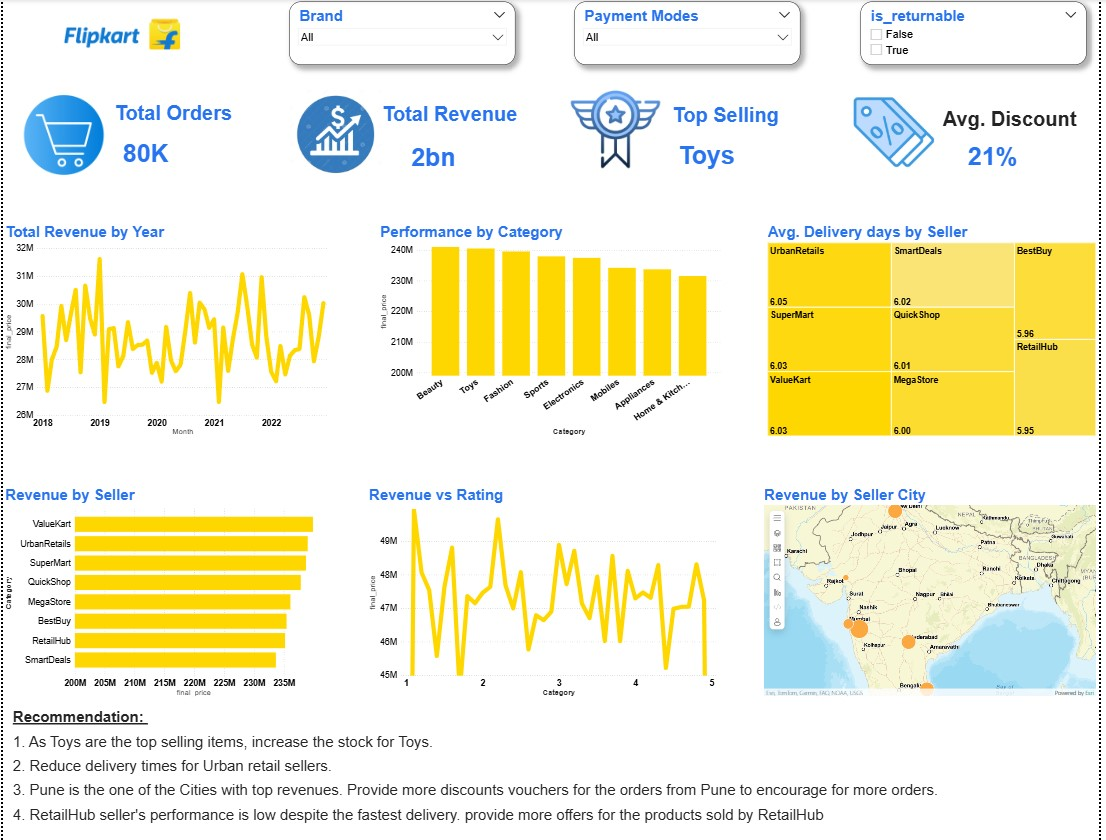

Layout of this report page (visuals, bound fields, positions):
{"tool":"powerbi","page":{"name":"Page 1","canvas":[2338,1800],"ordinal":0},"visuals":[{"type":"image","box":[0,0,480,175],"z":0},{"type":"card","fields":{"Values":["CountNonNull(flipkard.product_id)"]},"box":[156.4,253.6,299.9,143.6],"z":0,"group":"g2"},{"type":"card","fields":{"Values":["Min(flipkard.category)"]},"box":[1338.4,262,330.7,135.3],"z":0,"group":"g4"},{"type":"card","fields":{"Values":["Sum(flipkard.final_price)"]},"box":[736.7,266.4,365,135],"z":0,"group":"g3"},{"type":"card","fields":{"Values":["Avg(flipkard.Discount_Percentage)"]},"box":[1947,268.5,330.1,125.9],"z":0,"group":"g5"},{"type":"lineChart","title":"Total Revenue by Year","fields":{"Category":["flipkard.Month"],"Y":["Sum(flipkard.final_price)"]},"box":[0,480,710,457.5],"z":0,"group":"g6"},{"type":"clusteredBarChart","title":"Revenue by Seller","fields":{"Category":["flipkard.seller"],"Y":["Sum(flipkard.final_price)"]},"box":[0,1040,690.6,452.5],"z":0,"group":"g7"},{"type":"group","id":"g1","title":"Group 5","box":[14,179,2299.4,222.4],"z":1000},{"type":"textbox","box":[223.3,214,299.9,71.8],"z":1000,"group":"g2"},{"type":"textbox","box":[793.8,217.5,323.4,73.6],"z":1000,"group":"g3"},{"type":"textbox","box":[1378.3,219.4,335.3,72.7],"z":1000,"group":"g4"},{"type":"textbox","box":[1976.8,226.5,335.7,69.9],"z":1000,"group":"g5"},{"type":"clusteredColumnChart","title":"Performance by Category","fields":{"Category":["flipkard.category"],"Y":["Sum(flipkard.final_price)"]},"box":[800,480,737.5,457.5],"z":1000,"group":"g6"},{"type":"lineChart","title":"Revenue vs Rating","fields":{"Category":["flipkard.rating"],"Y":["Sum(flipkard.final_price)"]},"box":[776.6,1040,751.3,452.5],"z":1000,"group":"g7"},{"type":"slicer","fields":{"Values":["flipkard.brand"]},"box":[610,5,482.5,135],"z":2000},{"type":"group","id":"g2","title":"Group 1","box":[14,181.8,509.1,215.4],"z":2000,"group":"g1"},{"type":"image","box":[14,181.8,228.2,214.8],"z":2000,"group":"g2"},{"type":"treemap","title":"Avg. Delivery days by Seller","fields":{"Group":["flipkard.seller"],"Values":["Avg(flipkard.delivery_days)"]},"box":[1627.5,480,710,457.5],"z":2000,"group":"g6"},{"type":"esriVisual","title":"Revenue by Seller City","fields":{"Location":["flipkard.seller_city"],"Size":["Sum(flipkard.Total_Revenue)"]},"box":[1619,1040,718.5,452.5],"z":2000,"group":"g7"},{"type":"image","box":[608.9,179,203.9,215.6],"z":2001,"group":"g3"},{"type":"image","box":[1203.8,181.8,213.2,215.6],"z":2003,"group":"g4"},{"type":"slicer","fields":{"Values":["flipkard.payment_modes"]},"box":[1220,5,482.5,135],"z":3000},{"type":"group","id":"g3","title":"Group 2","box":[608.9,179,508.4,222.4],"z":3000,"group":"g1"},{"type":"slicer","fields":{"Values":["flipkard.is_returnable"]},"box":[1830,5,482.5,135],"z":4000},{"type":"group","id":"g4","title":"Group 3","box":[1203.8,181.8,509.1,215.4],"z":4000,"group":"g1"},{"type":"image","box":[1798.7,179,206.7,202.1],"z":4002,"group":"g5"},{"type":"group","id":"g5","title":"Group 4","box":[1798.7,179,514.7,215.4],"z":5000,"group":"g1"},{"type":"group","id":"g6","title":"Group 6","box":[0,480,2337.5,457.5],"z":5000},{"type":"group","id":"g7","title":"Group 7","box":[0,1040,2337.5,452.5],"z":6000},{"type":"textbox","box":[16,1509.8,2278,258.7],"z":7000}]}

Visuals, with their boxes in screenshot pixels (x1, y1, x2, y2), scaled from the page's 2338x1800 canvas onto the 1106x840 screenshot:
image: pyautogui.locateOnScreen(0, 0, 227, 82)
card - CountNonNull(flipkard.product_id): pyautogui.locateOnScreen(74, 118, 216, 185)
card - Min(flipkard.category): pyautogui.locateOnScreen(633, 122, 790, 185)
card - Sum(flipkard.final_price): pyautogui.locateOnScreen(348, 124, 521, 187)
card - Avg(flipkard.Discount_Percentage): pyautogui.locateOnScreen(921, 125, 1077, 184)
"Total Revenue by Year" lineChart: pyautogui.locateOnScreen(0, 224, 336, 438)
"Revenue by Seller" clusteredBarChart: pyautogui.locateOnScreen(0, 485, 327, 696)
"Group 5" group: pyautogui.locateOnScreen(7, 84, 1094, 187)
textbox: pyautogui.locateOnScreen(106, 100, 248, 133)
textbox: pyautogui.locateOnScreen(376, 102, 528, 136)
textbox: pyautogui.locateOnScreen(652, 102, 811, 136)
textbox: pyautogui.locateOnScreen(935, 106, 1094, 138)
"Performance by Category" clusteredColumnChart: pyautogui.locateOnScreen(378, 224, 727, 438)
"Revenue vs Rating" lineChart: pyautogui.locateOnScreen(367, 485, 723, 696)
slicer - flipkard.brand: pyautogui.locateOnScreen(289, 2, 517, 65)
"Group 1" group: pyautogui.locateOnScreen(7, 85, 247, 185)
image: pyautogui.locateOnScreen(7, 85, 115, 185)
"Avg. Delivery days by Seller" treemap: pyautogui.locateOnScreen(770, 224, 1105, 438)
"Revenue by Seller City" esriVisual: pyautogui.locateOnScreen(766, 485, 1105, 696)
image: pyautogui.locateOnScreen(288, 84, 384, 184)
image: pyautogui.locateOnScreen(569, 85, 670, 185)
slicer - flipkard.payment_modes: pyautogui.locateOnScreen(577, 2, 805, 65)
"Group 2" group: pyautogui.locateOnScreen(288, 84, 529, 187)
slicer - flipkard.is_returnable: pyautogui.locateOnScreen(866, 2, 1094, 65)
"Group 3" group: pyautogui.locateOnScreen(569, 85, 810, 185)
image: pyautogui.locateOnScreen(851, 84, 949, 178)
"Group 4" group: pyautogui.locateOnScreen(851, 84, 1094, 184)
"Group 6" group: pyautogui.locateOnScreen(0, 224, 1105, 438)
"Group 7" group: pyautogui.locateOnScreen(0, 485, 1105, 696)
textbox: pyautogui.locateOnScreen(8, 705, 1085, 825)
